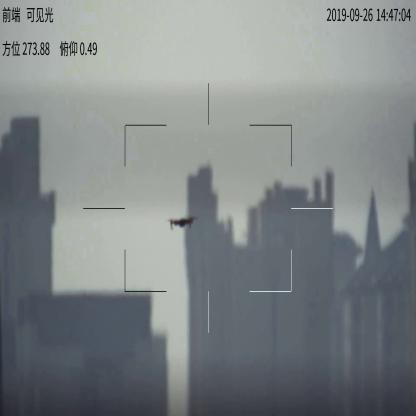uav: (166, 216, 198, 234)
